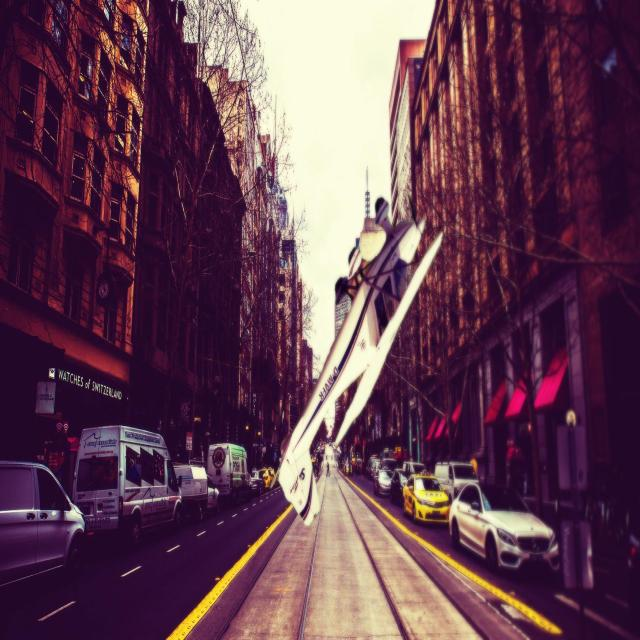airplane: (271, 184, 444, 526)
